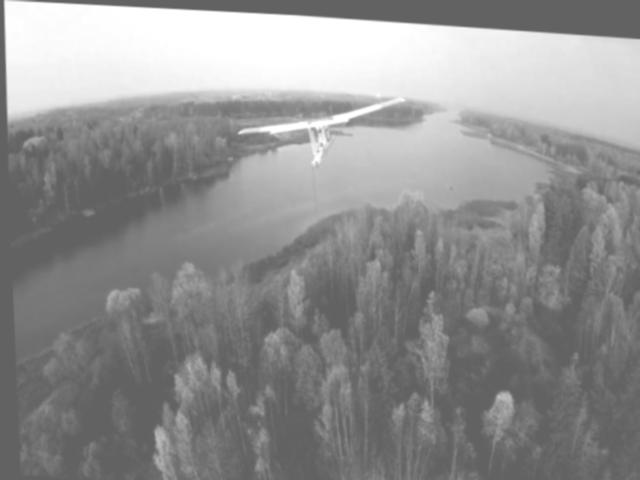hedef: (228, 81, 406, 184)
